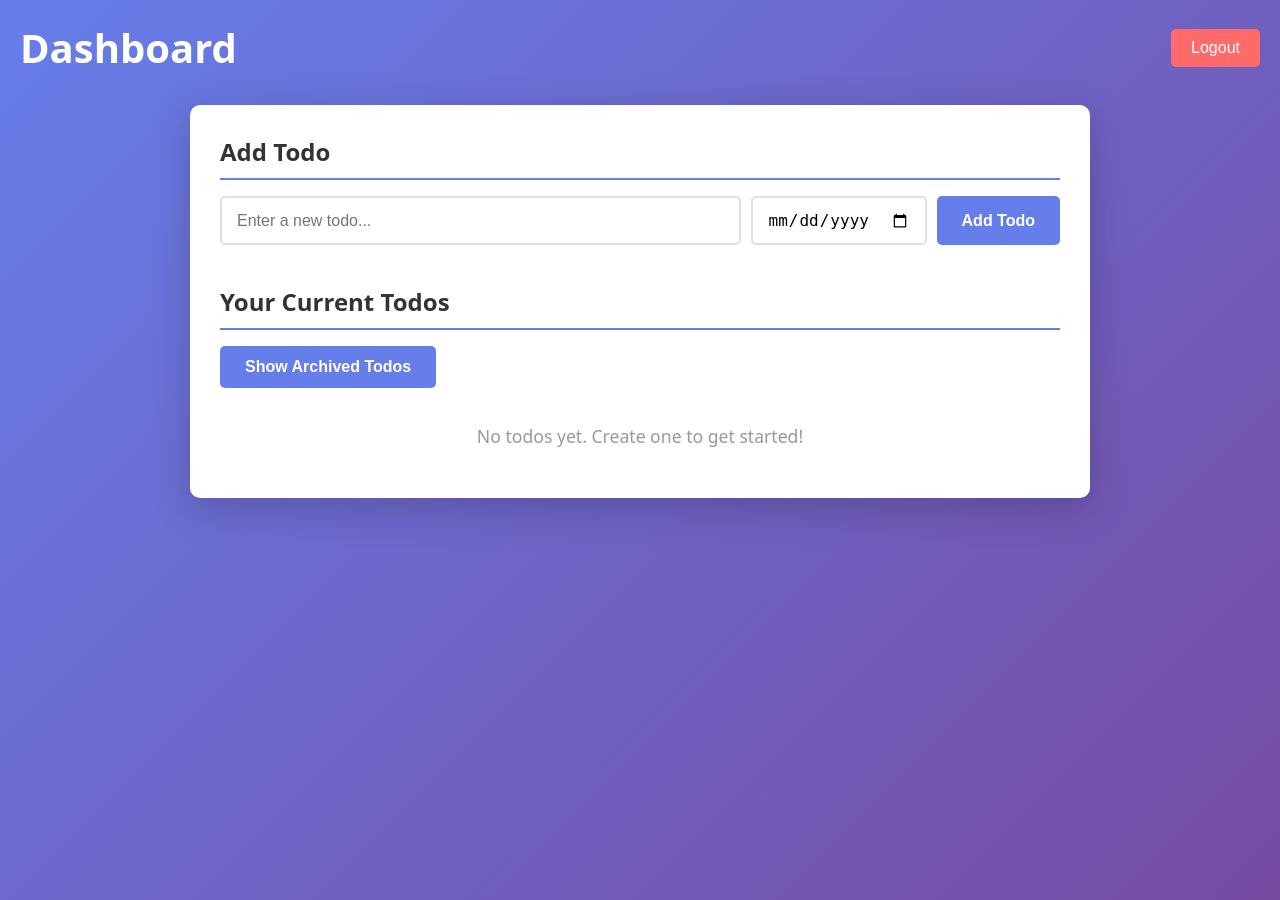
DashboardPage › adding todos › should display error message on creation failure
Type "New Todo" into the field with placeholder "Enter a new todo..." at (480, 220), box [220, 196, 740, 245]
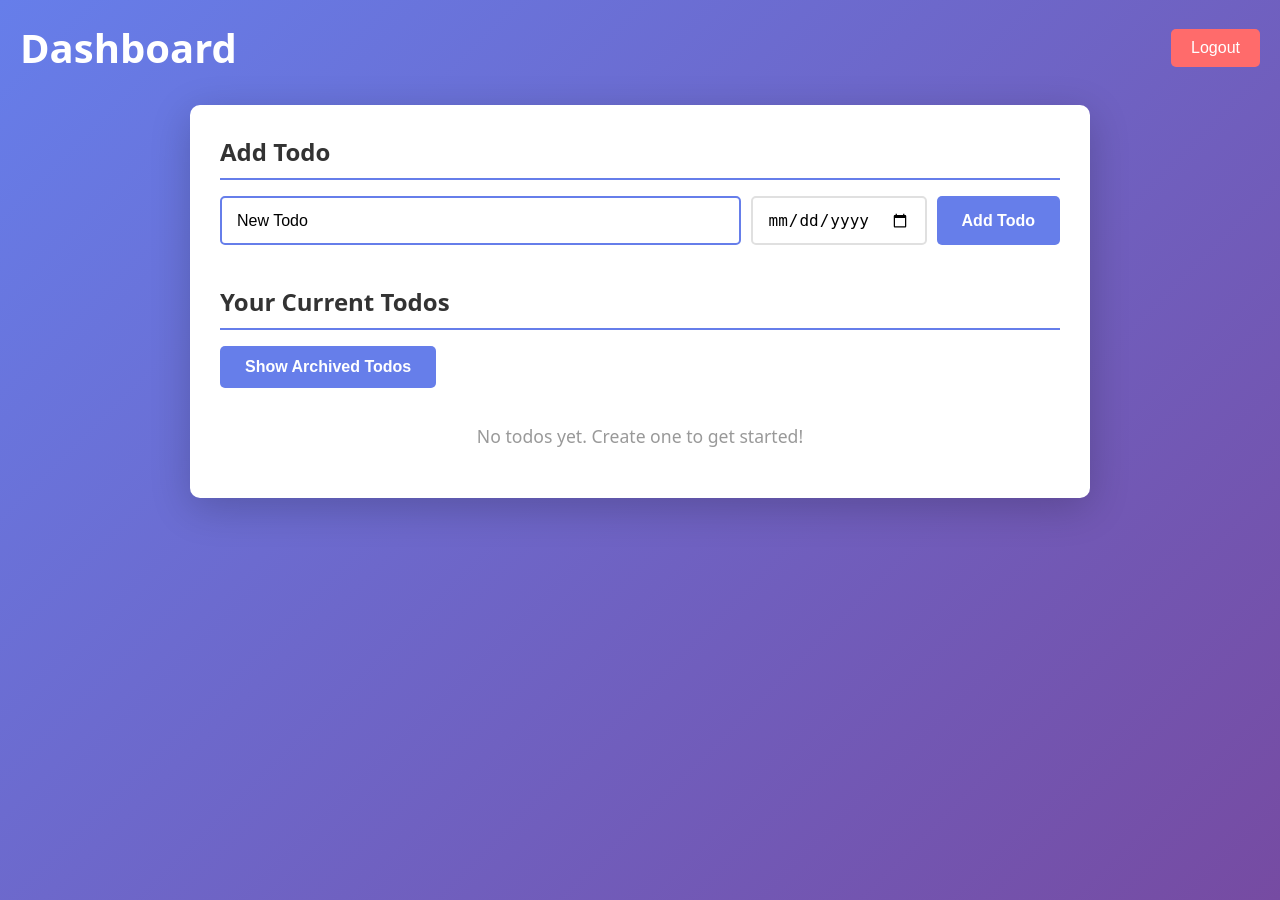
Click the button "Add Todo" at (998, 220), box [936, 196, 1060, 245]
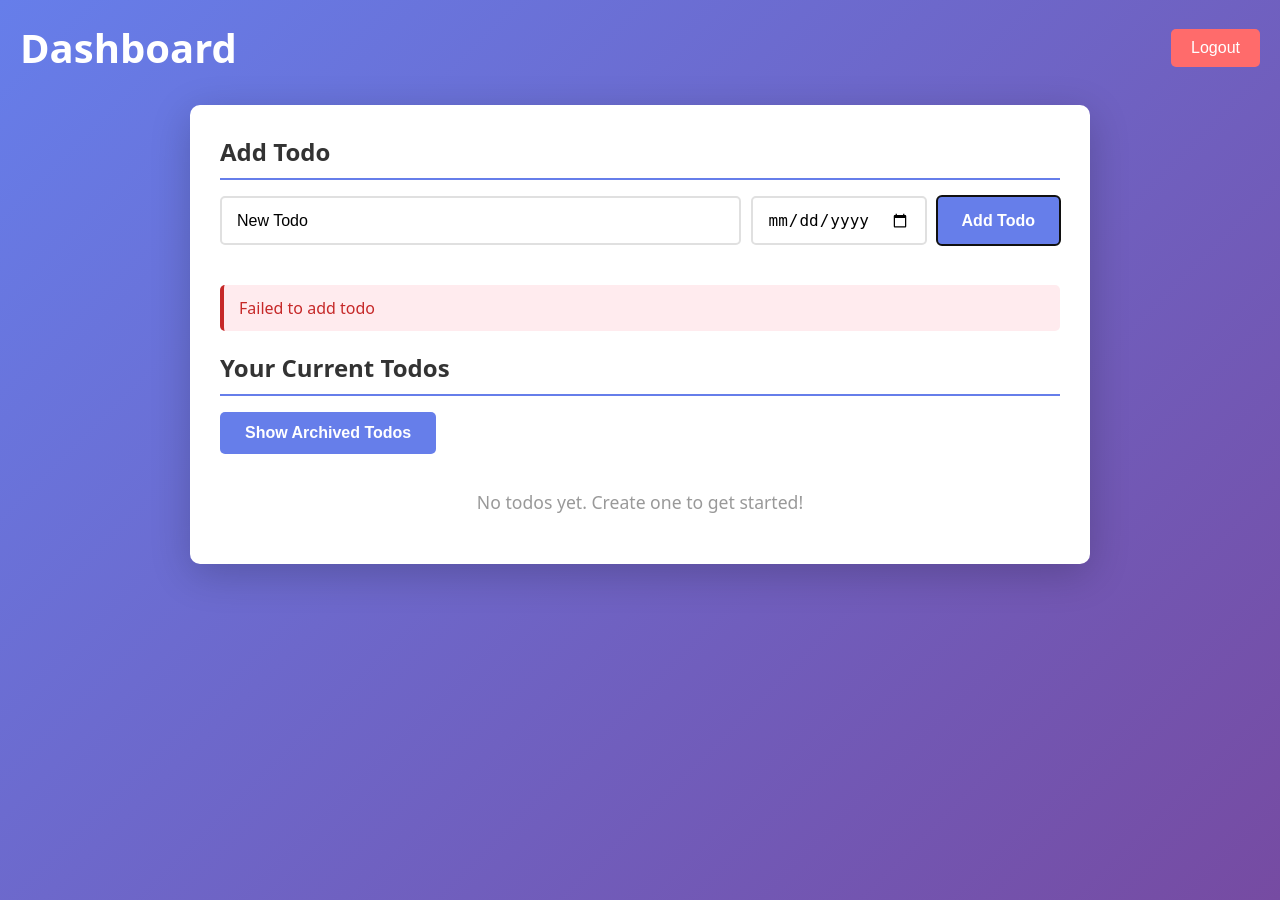
expect the text "Failed to add todo" is shown: met, box [220, 285, 1060, 331]
